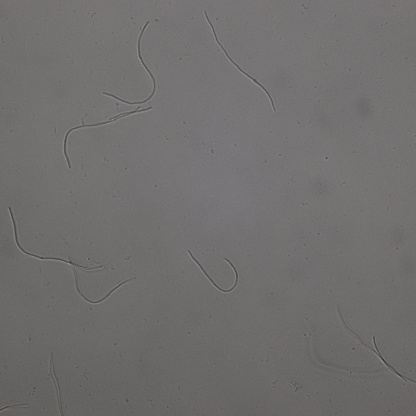Sensitive: (205, 11, 275, 112), (8, 208, 102, 269), (339, 310, 415, 382), (63, 107, 152, 168), (104, 21, 156, 104), (69, 258, 137, 305), (189, 251, 239, 293)
